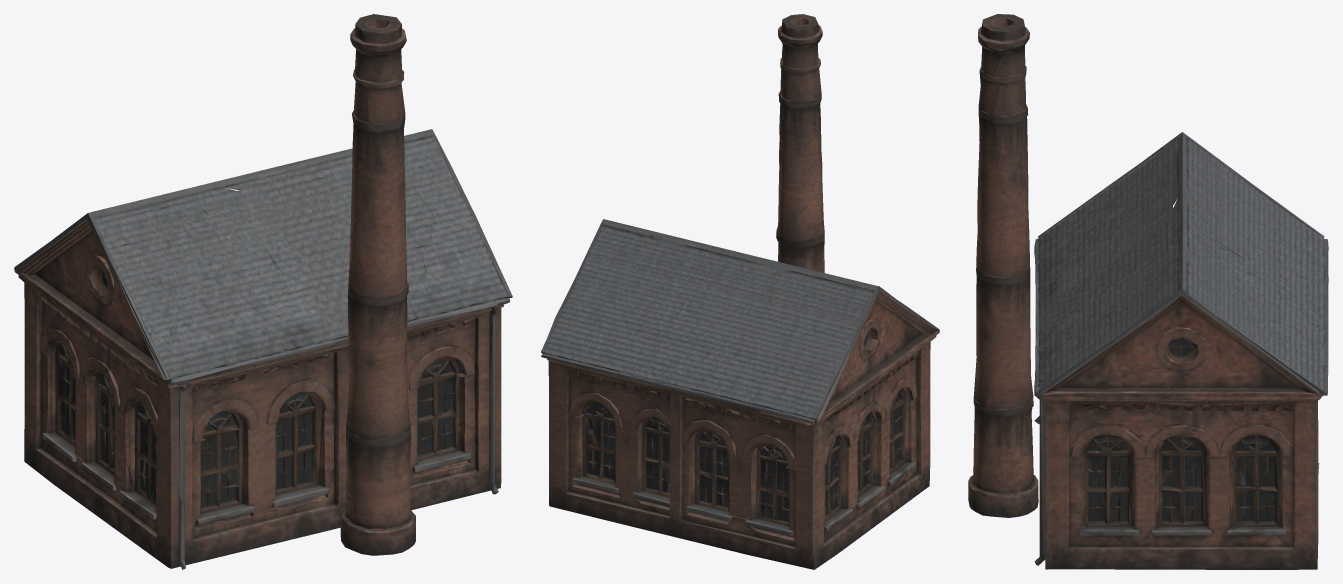
The model's file is mid_engine_house_gabled.glb.
The picture shows the model from 3 angles, left to right: view 1: azimuth 30°, elevation 25°; view 2: azimuth 150°, elevation 25°; view 3: azimuth 270°, elevation 25°; orthographic projection. The views are drawn at different scales.
Visible parts, largest first — view 1: main; view 2: main; view 3: main.
Boxes of the visible parts, left/top/right/bottom form: main: left=14, top=14, right=512, bottom=569; main: left=541, top=14, right=939, bottom=569; main: left=968, top=14, right=1328, bottom=569.
Size of the model in its own units: 7.93 by 11.2 by 7.59.
1 material, 1 textured.
